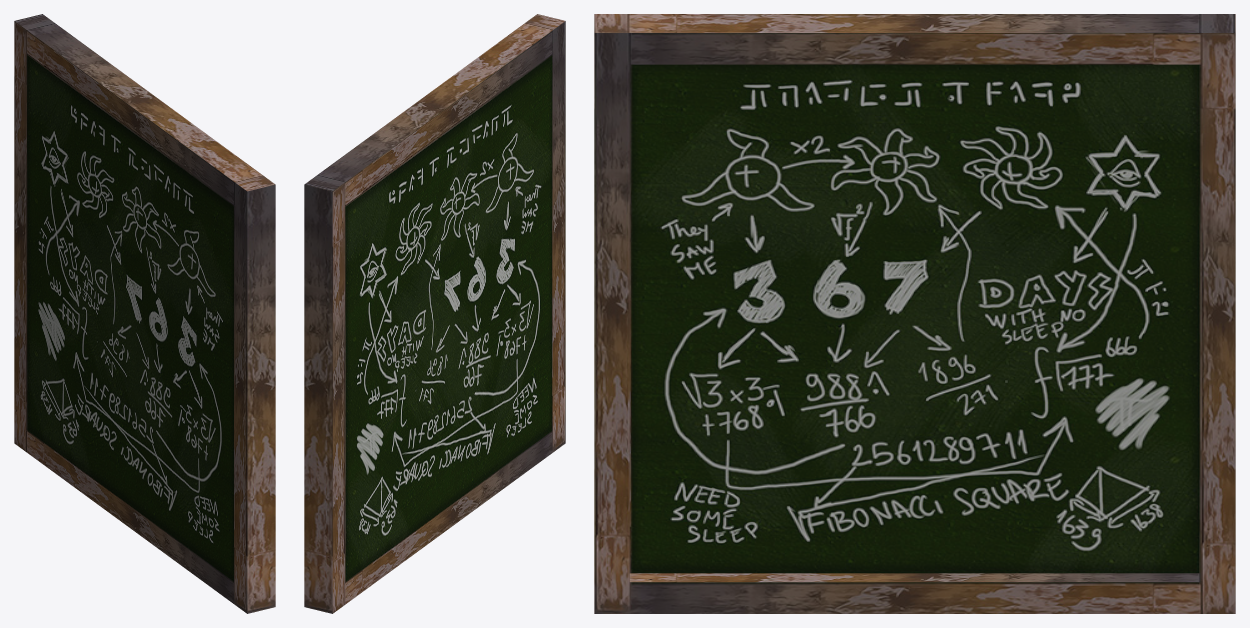
The model's file is clueBoard.fbx.
The picture shows the model from 3 angles, left to right: view 1: azimuth 30°, elevation 25°; view 2: azimuth 150°, elevation 25°; view 3: azimuth 270°, elevation 25°; orthographic projection. The views are drawn at different scales.
Visible parts, largest first — view 1: pCube84; view 2: pCube84; view 3: pCube84.
Boxes of the visible parts, bbox=[...] form: pCube84: bbox=[14, 14, 275, 613]; pCube84: bbox=[304, 14, 565, 613]; pCube84: bbox=[594, 14, 1235, 613].
Bounding box in the file's own units: 9.38 × 134 × 134.
